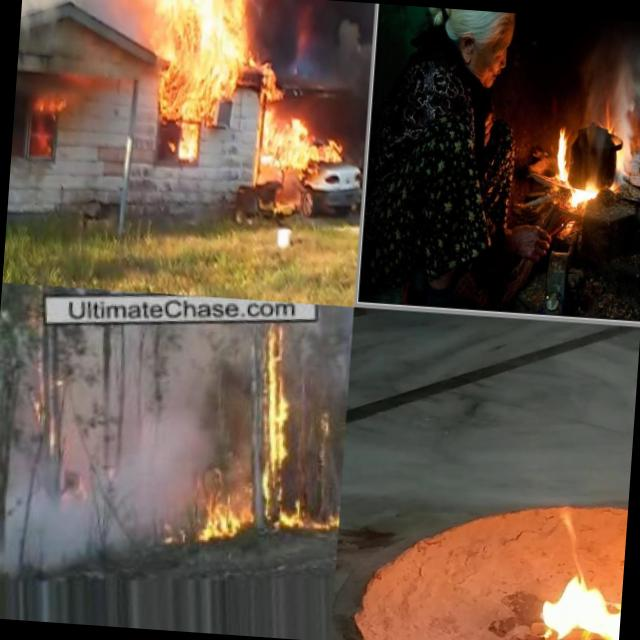fire: (200, 328, 306, 550), (536, 512, 627, 640), (152, 0, 248, 64), (256, 110, 348, 172), (547, 116, 601, 214), (23, 86, 67, 156), (251, 56, 282, 110), (176, 117, 203, 171), (600, 104, 616, 138)
smoke: (2, 354, 216, 570), (235, 0, 374, 51), (20, 0, 165, 24), (610, 104, 638, 196), (603, 39, 640, 105), (576, 42, 607, 120)
